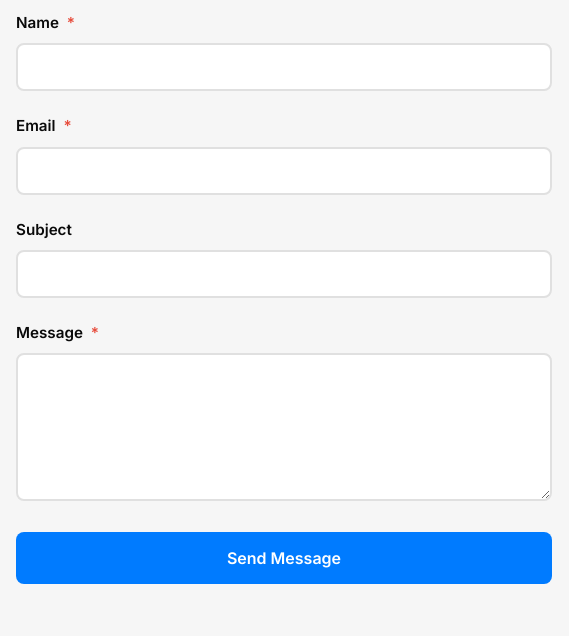
it: ContactForm Component › displays validation errors for empty required fields
Click the button "Send Message". click: (284, 558)
box: left=16, top=532, right=552, bottom=584
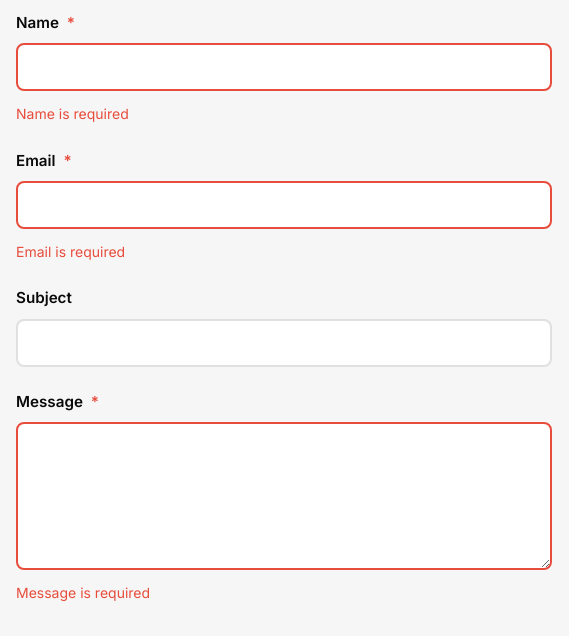
Result: the text "Name is required" is shown at left=16, top=105, right=129, bottom=122
Result: the text "Email is required" is shown at left=16, top=243, right=125, bottom=260
Result: the text "Message is required" is shown at left=16, top=584, right=150, bottom=601
